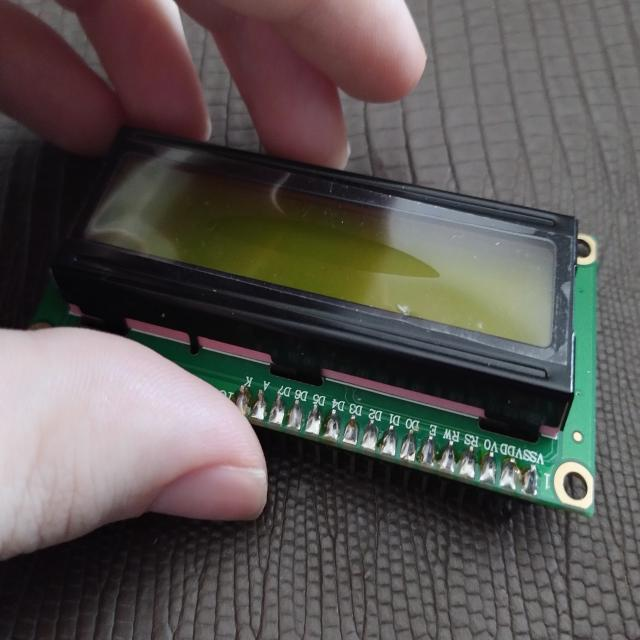lcd: (48, 125, 600, 519)
